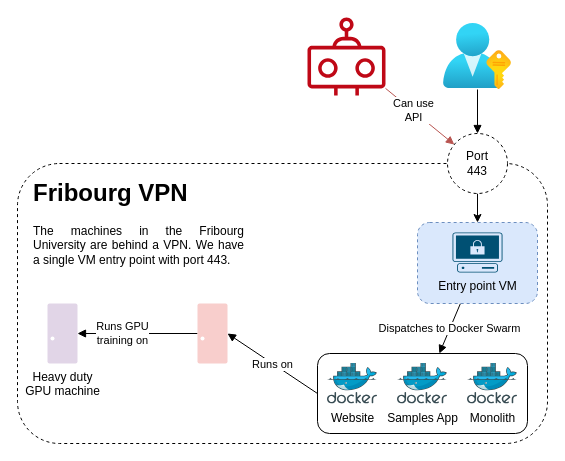
Image size: 565x461. Some labels were removed from this diagram. The shapes that lost their labels are listed below. From the top down, each one's centre as x and y in pixels, then its label:
At [346,56]: "Bot".
At [477,56]: "User".
At [212,333]: "Heavy duty CPU machine".
